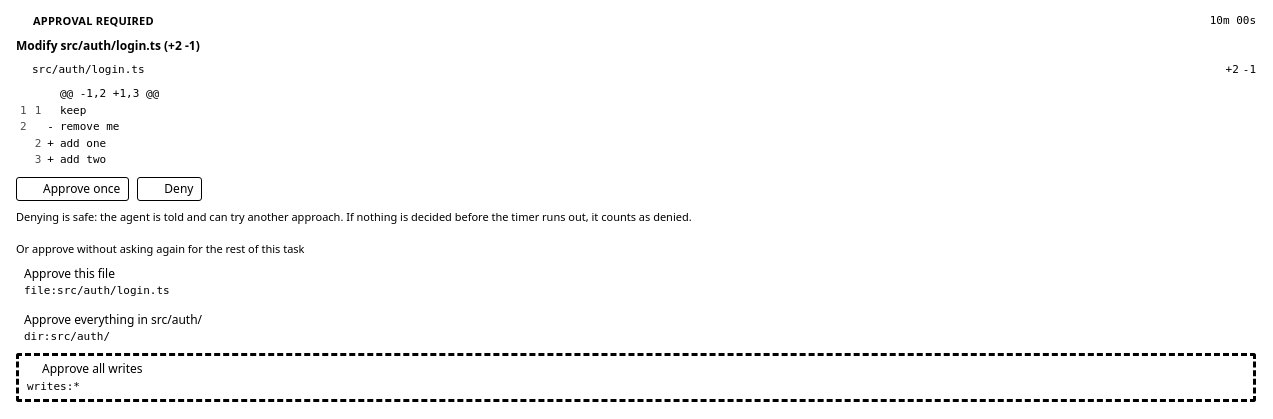
Test case: ApprovalCard: scope weighting › the second confirm can be cancelled without granting anything
The width and height of the screenshot is (1273, 419).
Click the text "Approve all writes" at coordinates (85, 369), box [27,360,142,378]
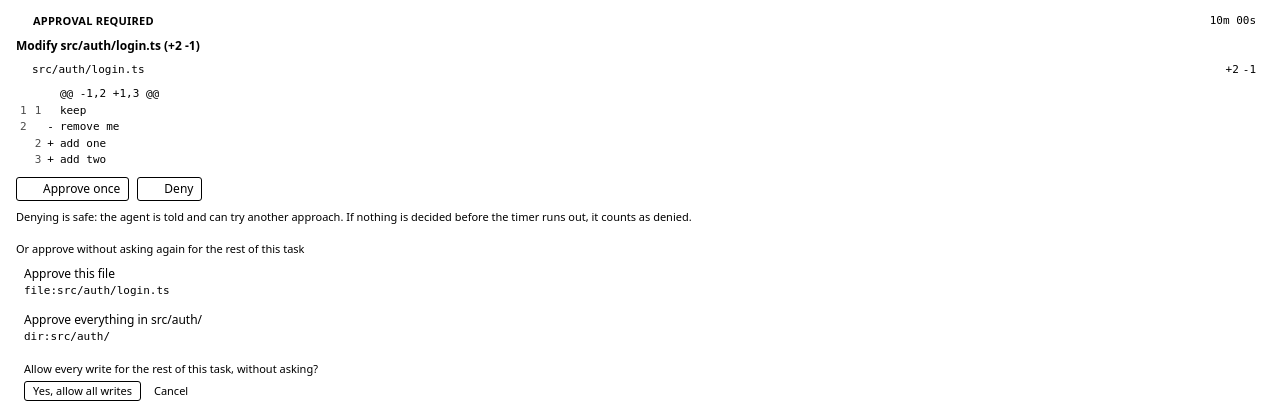
Click the button "Cancel" at coordinates (171, 391), box [145,381,197,401]
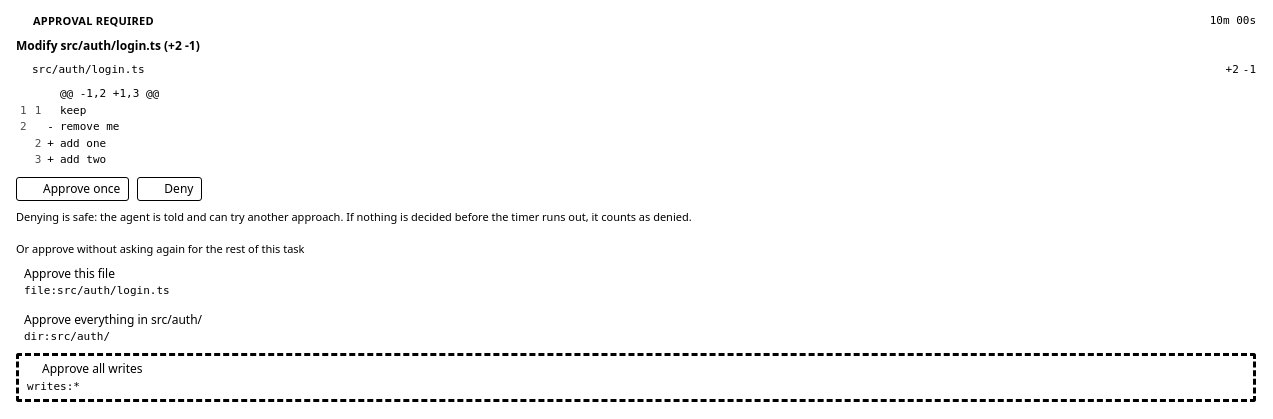
Expected: the text "Approve all writes" is shown, [27,360,142,378]
